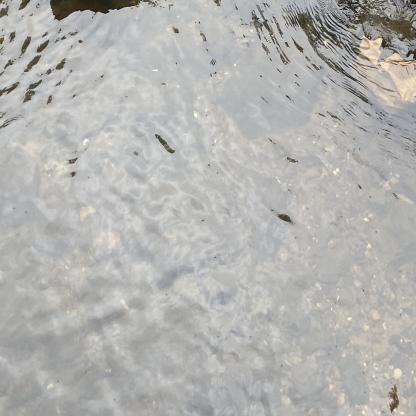trash: (354, 33, 416, 117)
